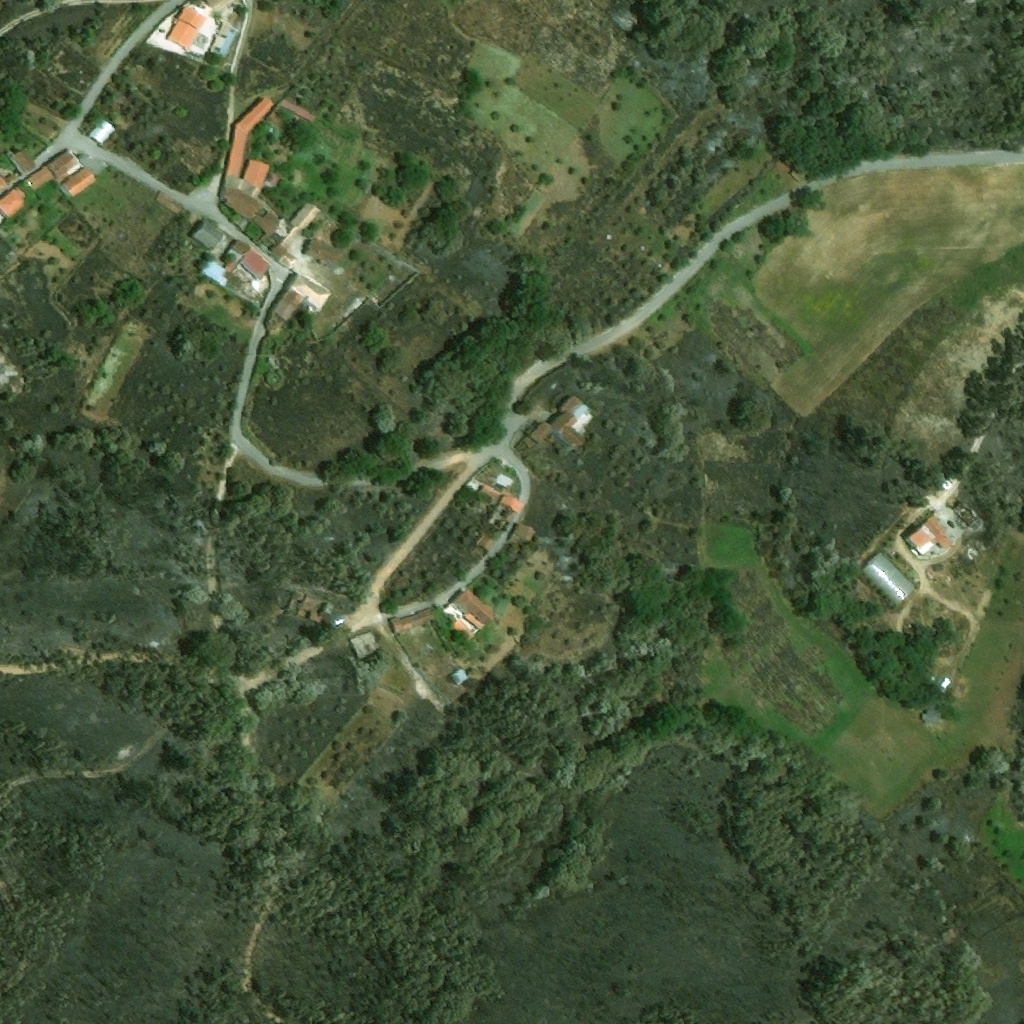0 no-damage: (224, 92, 275, 190), (259, 269, 333, 334), (520, 394, 595, 453), (264, 201, 321, 270), (218, 187, 282, 246), (442, 585, 499, 641), (860, 551, 915, 606), (164, 0, 216, 50), (904, 514, 954, 557), (224, 239, 270, 281), (275, 95, 319, 126), (190, 217, 227, 251), (303, 237, 344, 267), (390, 607, 435, 634), (45, 150, 81, 183), (61, 165, 97, 198), (209, 23, 236, 58), (6, 148, 38, 175), (24, 165, 55, 192), (200, 260, 232, 286), (0, 186, 25, 219), (88, 118, 116, 145), (155, 191, 184, 216), (470, 533, 496, 559), (476, 483, 505, 505), (921, 702, 942, 725), (508, 524, 529, 543), (451, 668, 469, 686), (0, 173, 9, 190), (2, 174, 16, 184), (942, 480, 954, 491)
2 major-damage: (485, 493, 526, 534)
3 destroyed: (297, 591, 337, 626), (952, 499, 980, 527), (283, 586, 307, 616), (969, 544, 982, 558), (974, 547, 986, 561), (960, 520, 971, 530)
